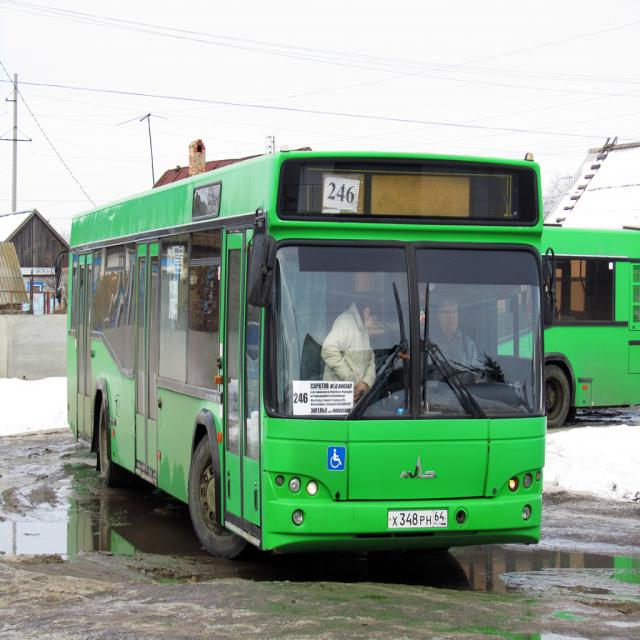number-of-bus: (327, 175, 358, 213), (293, 387, 311, 409)
